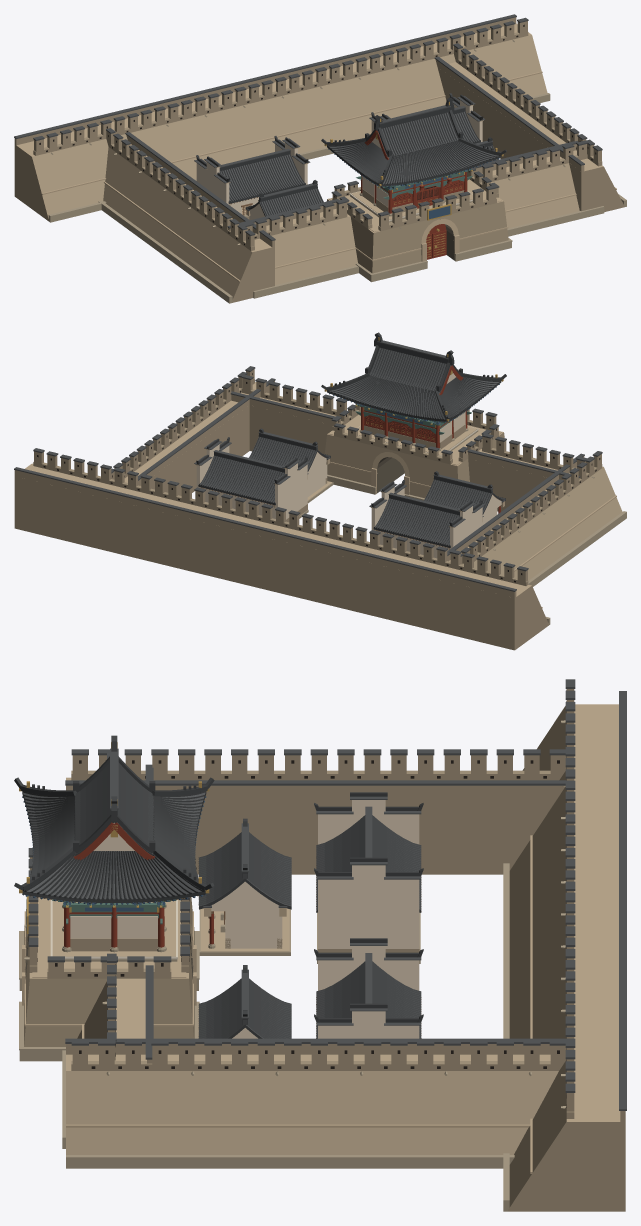
3 views of the same model, one above another, from view 1: azimuth 30°, elevation 25°; view 2: azimuth 150°, elevation 25°; view 3: azimuth 270°, elevation 25° (orthographic). The views are drawn at different scales.
Visible parts, largest first — view 1: X07; view 2: X07; view 3: X07.
Part boxes in pixels (x1=…): X07: x1=14, y1=14, x2=626, y2=303; X07: x1=14, y1=332, x2=626, y2=650; X07: x1=14, y1=679, x2=626, y2=1211.
Size of the model in its own units: 80.1 by 21.13 by 49.61.
